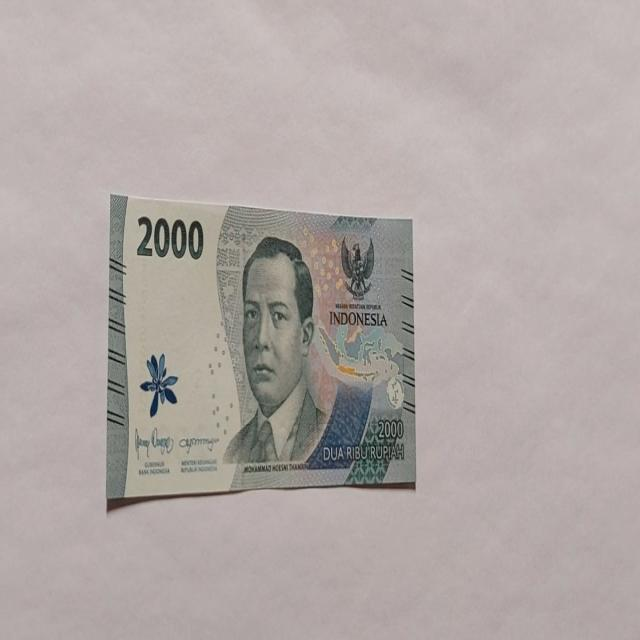dua ribu rupiah: (106, 192, 417, 509), (222, 234, 328, 466)
